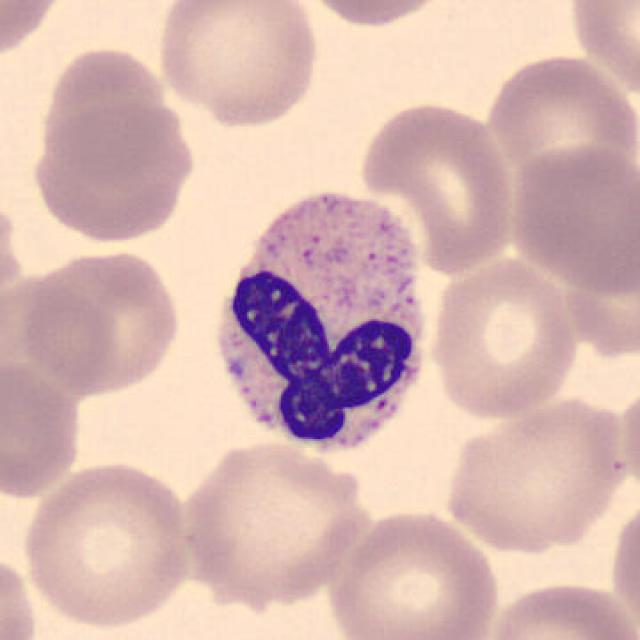Neutrophil: (198, 178, 438, 474)
RBC: (176, 437, 375, 607), (439, 392, 631, 557), (18, 457, 196, 631), (354, 97, 519, 275), (425, 254, 581, 423), (21, 244, 187, 398), (27, 99, 199, 245), (325, 504, 503, 640), (152, 0, 323, 130), (503, 138, 638, 296), (480, 49, 636, 185), (34, 42, 174, 178), (9, 272, 121, 393), (0, 354, 85, 502), (569, 219, 640, 368), (481, 576, 638, 640), (562, 0, 640, 109), (606, 490, 640, 638), (293, 0, 455, 30), (0, 0, 69, 63), (0, 548, 41, 640), (617, 378, 640, 502)
